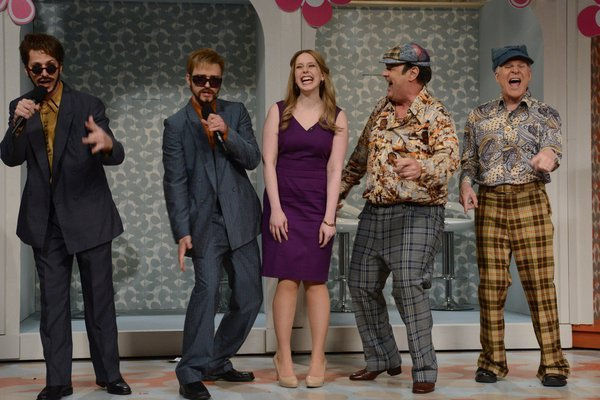23: (288, 46, 324, 95)
27: (185, 57, 224, 106)
33: (20, 41, 63, 97)
37: (377, 50, 413, 104)
52: (491, 48, 533, 102)
Bracelet: (319, 217, 340, 230)
Coat: (1, 84, 128, 256), (155, 95, 264, 262)
Dress: (260, 97, 343, 287)
Female: (288, 46, 324, 95)
Glasses: (184, 74, 226, 89), (22, 62, 63, 76)
Male: (20, 41, 63, 97), (491, 48, 533, 102), (377, 50, 413, 104), (185, 57, 224, 106)
P-Cap: (374, 39, 436, 69), (484, 43, 541, 73)
Pants: (19, 197, 133, 389), (173, 203, 264, 390)
Shirt: (337, 86, 461, 222), (457, 87, 567, 192), (26, 82, 67, 184), (181, 93, 230, 159)
Shoes: (348, 364, 404, 382), (93, 373, 136, 396), (273, 352, 300, 388), (303, 356, 330, 389), (178, 376, 215, 400), (200, 368, 256, 383), (34, 383, 76, 400), (473, 366, 503, 386), (538, 371, 572, 388), (408, 375, 438, 394)
Trouser: (470, 181, 573, 383), (347, 197, 445, 387)
